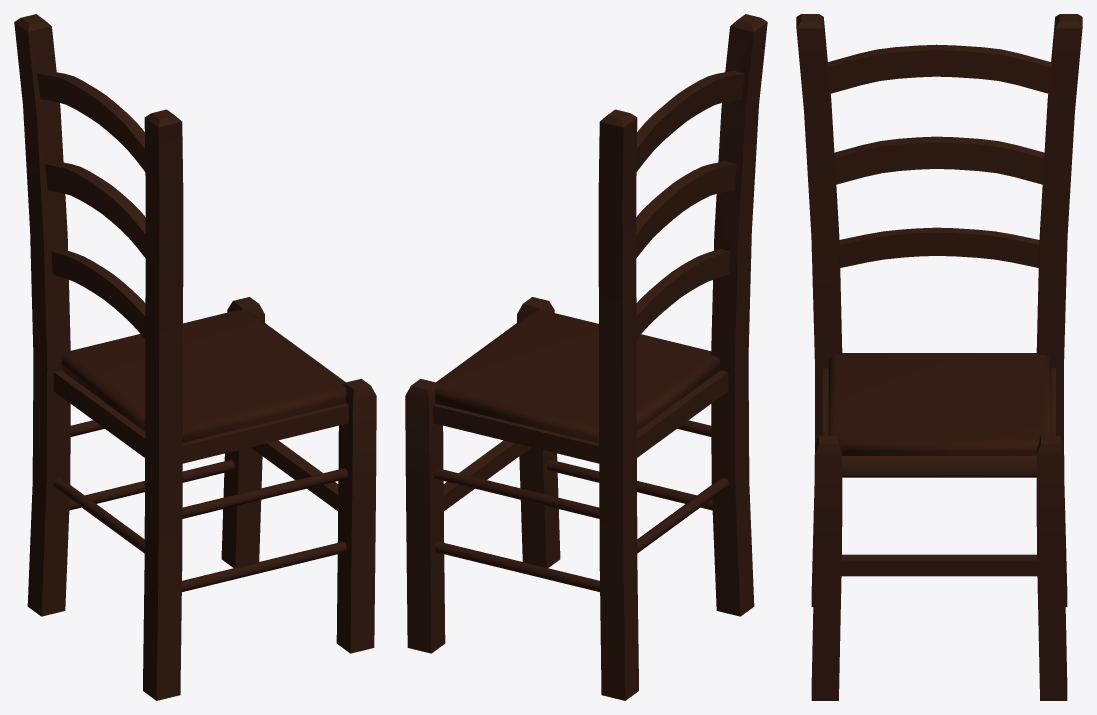
File: Chaise.fbx
3 renders of one model, left to right at view 1: azimuth 30°, elevation 25°; view 2: azimuth 150°, elevation 25°; view 3: azimuth 270°, elevation 25°, orthographic.
Parts seen in each view (by area): view 1: Chaise; view 2: Chaise; view 3: Chaise.
Part boxes in pixels (box(x1,y1,x2,y2)): Chaise: box(14, 14, 376, 700); Chaise: box(405, 14, 767, 700); Chaise: box(796, 14, 1082, 700).
Size of the model in its own units: 59.82 by 147 by 65.64.
